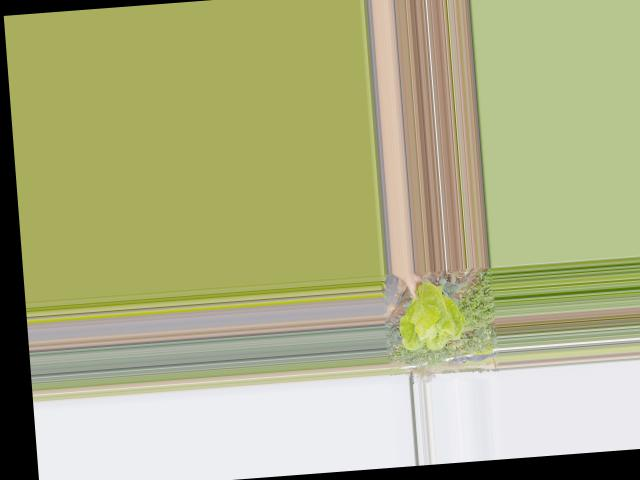lettuce: (392, 274, 468, 353)
